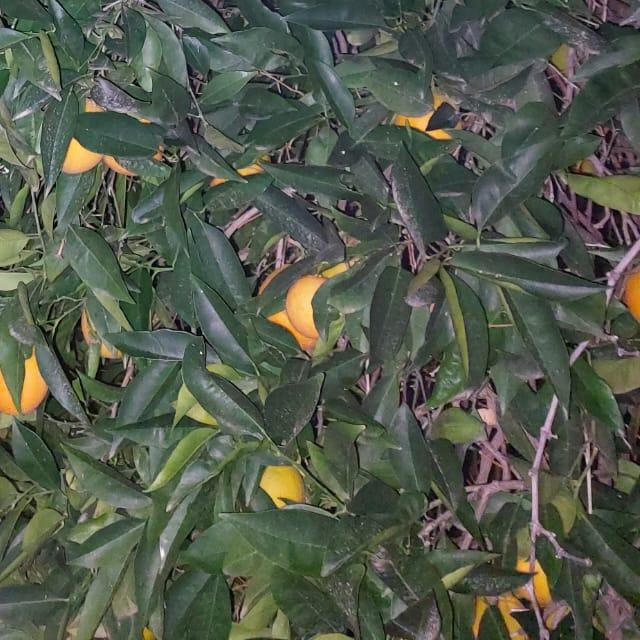orange: (35, 90, 105, 172), (0, 328, 56, 418), (275, 269, 343, 337), (464, 587, 536, 639), (245, 463, 307, 519), (508, 542, 556, 608)
